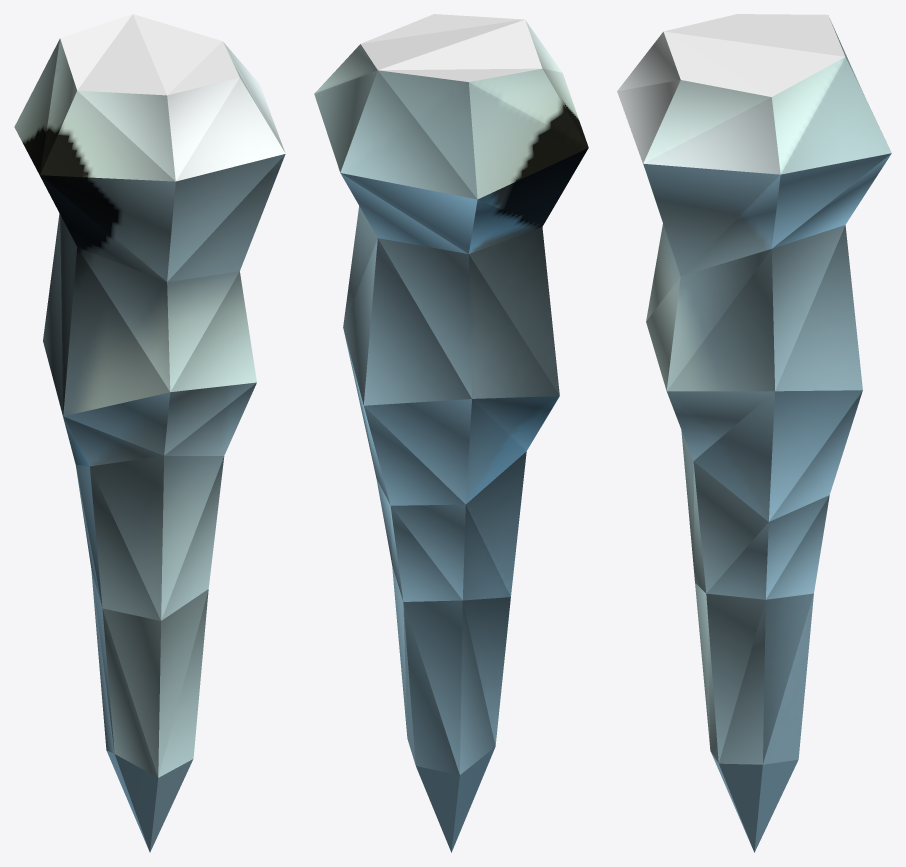
File: Icicle.glb
The picture shows the model from 3 angles, left to right: view 1: azimuth 30°, elevation 25°; view 2: azimuth 150°, elevation 25°; view 3: azimuth 270°, elevation 25°; orthographic projection.
Visible parts, largest first — view 1: icicle; view 2: icicle; view 3: icicle.
Boxes of the visible parts, box(x1,y1,x2,y2) form: icicle: box(14, 14, 285, 852); icicle: box(314, 14, 588, 852); icicle: box(617, 14, 891, 852).
Size of the model in its own units: 0.3525 by 1.1 by 0.3373.
1 material, 1 textured.
